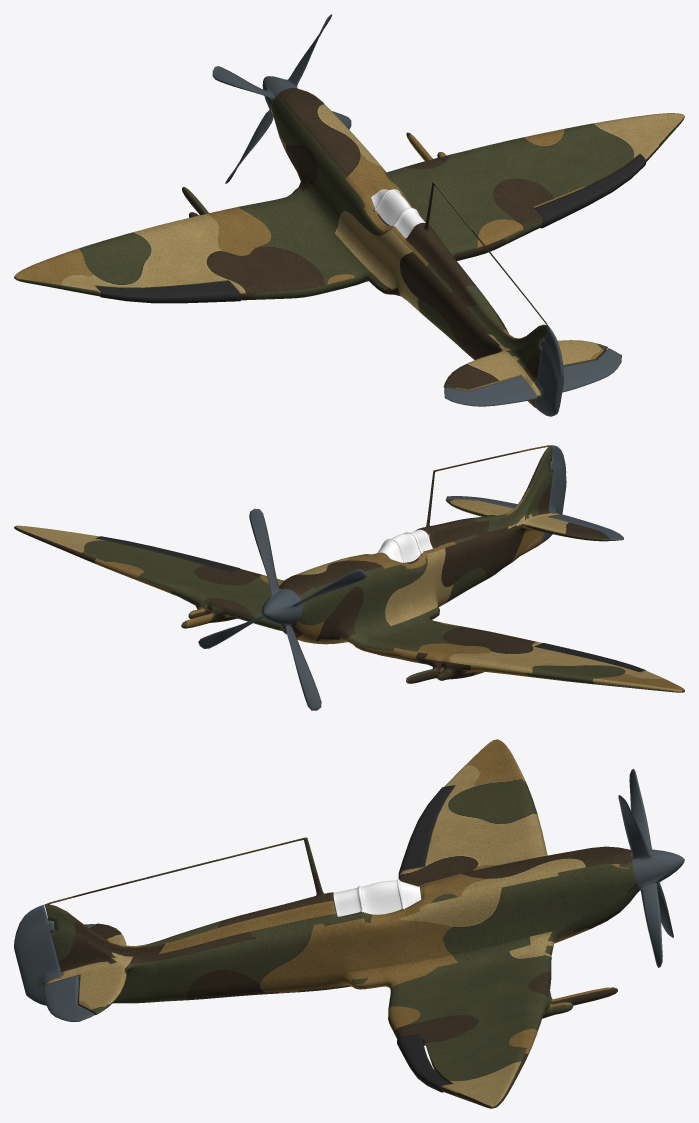
The model's file is spitfireNv6.glb.
The picture shows the model from 3 angles, top to bottom: view 1: azimuth 30°, elevation 25°; view 2: azimuth 150°, elevation 25°; view 3: azimuth 270°, elevation 25°; orthographic projection. The views are drawn at different scales.
Visible parts, largest first — view 1: gövde, solkanatsekil, pervane, sagkanatsekil, ortaarkakanat, solarkakanatsekil, sagarkakanatsekil, cam, acilircam; view 2: gövde, pervane, ortaarkakanat, sagkanatsekil, cam, solkanatsekil, solarkakanatsekil, acilircam; view 3: gövde, pervane, ortaarkakanat, solkanatsekil, sagarkakanatsekil, sagkanatsekil, cam, acilircam.
Boxes of the visible parts, x1=… form: gövde: x1=14, y1=88, x2=684, y2=407; solkanatsekil: x1=96, y1=281, x2=241, y2=303; pervane: x1=212, y1=14, x2=351, y2=183; sagkanatsekil: x1=535, y1=155, x2=646, y2=228; ortaarkakanat: x1=535, y1=327, x2=563, y2=416; solarkakanatsekil: x1=444, y1=375, x2=537, y2=406; sagarkakanatsekil: x1=562, y1=348, x2=621, y2=392; cam: x1=371, y1=189, x2=425, y2=238; acilircam: x1=377, y1=190, x2=411, y2=225; gövde: x1=14, y1=445, x2=684, y2=692; pervane: x1=198, y1=508, x2=366, y2=710; ortaarkakanat: x1=541, y1=445, x2=566, y2=543; sagkanatsekil: x1=96, y1=536, x2=240, y2=571; cam: x1=377, y1=529, x2=432, y2=562; solkanatsekil: x1=534, y1=643, x2=645, y2=672; solarkakanatsekil: x1=548, y1=514, x2=623, y2=540; acilircam: x1=392, y1=533, x2=420, y2=562; gövde: x1=44, y1=739, x2=639, y2=1108; pervane: x1=618, y1=768, x2=684, y2=967; ortaarkakanat: x1=14, y1=905, x2=61, y2=1005; solkanatsekil: x1=398, y1=785, x2=454, y2=877; sagarkakanatsekil: x1=42, y1=975, x2=94, y2=1021; sagkanatsekil: x1=397, y1=1034, x2=450, y2=1092; cam: x1=333, y1=879, x2=421, y2=916; acilircam: x1=361, y1=880, x2=401, y2=914.
Bounding box in the file's own units: 33.19 × 9.77 × 25.65.
6 materials, 1 textured.
